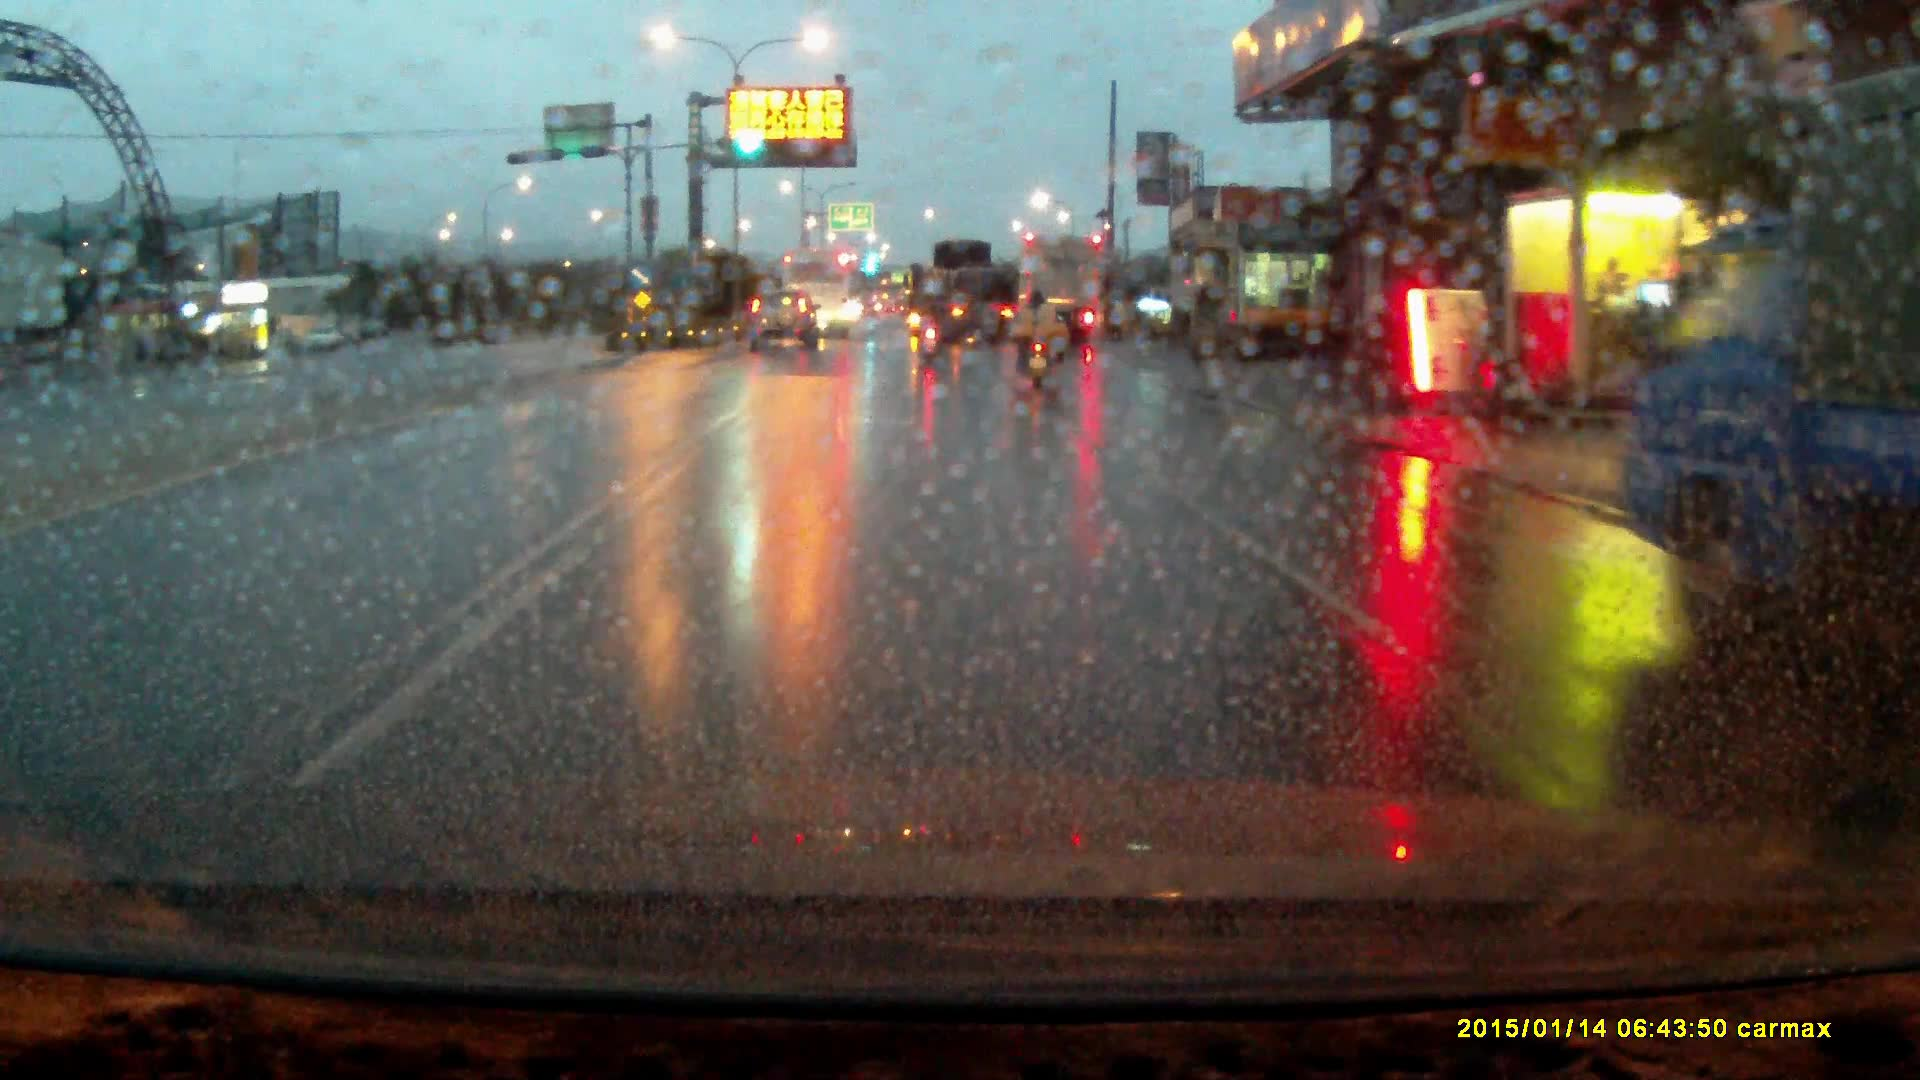rider: (1018, 287, 1057, 393), (917, 285, 944, 362)
vehicle: (1617, 158, 1920, 629), (919, 239, 1023, 347), (1021, 236, 1105, 347), (781, 247, 855, 333), (749, 280, 817, 344)
